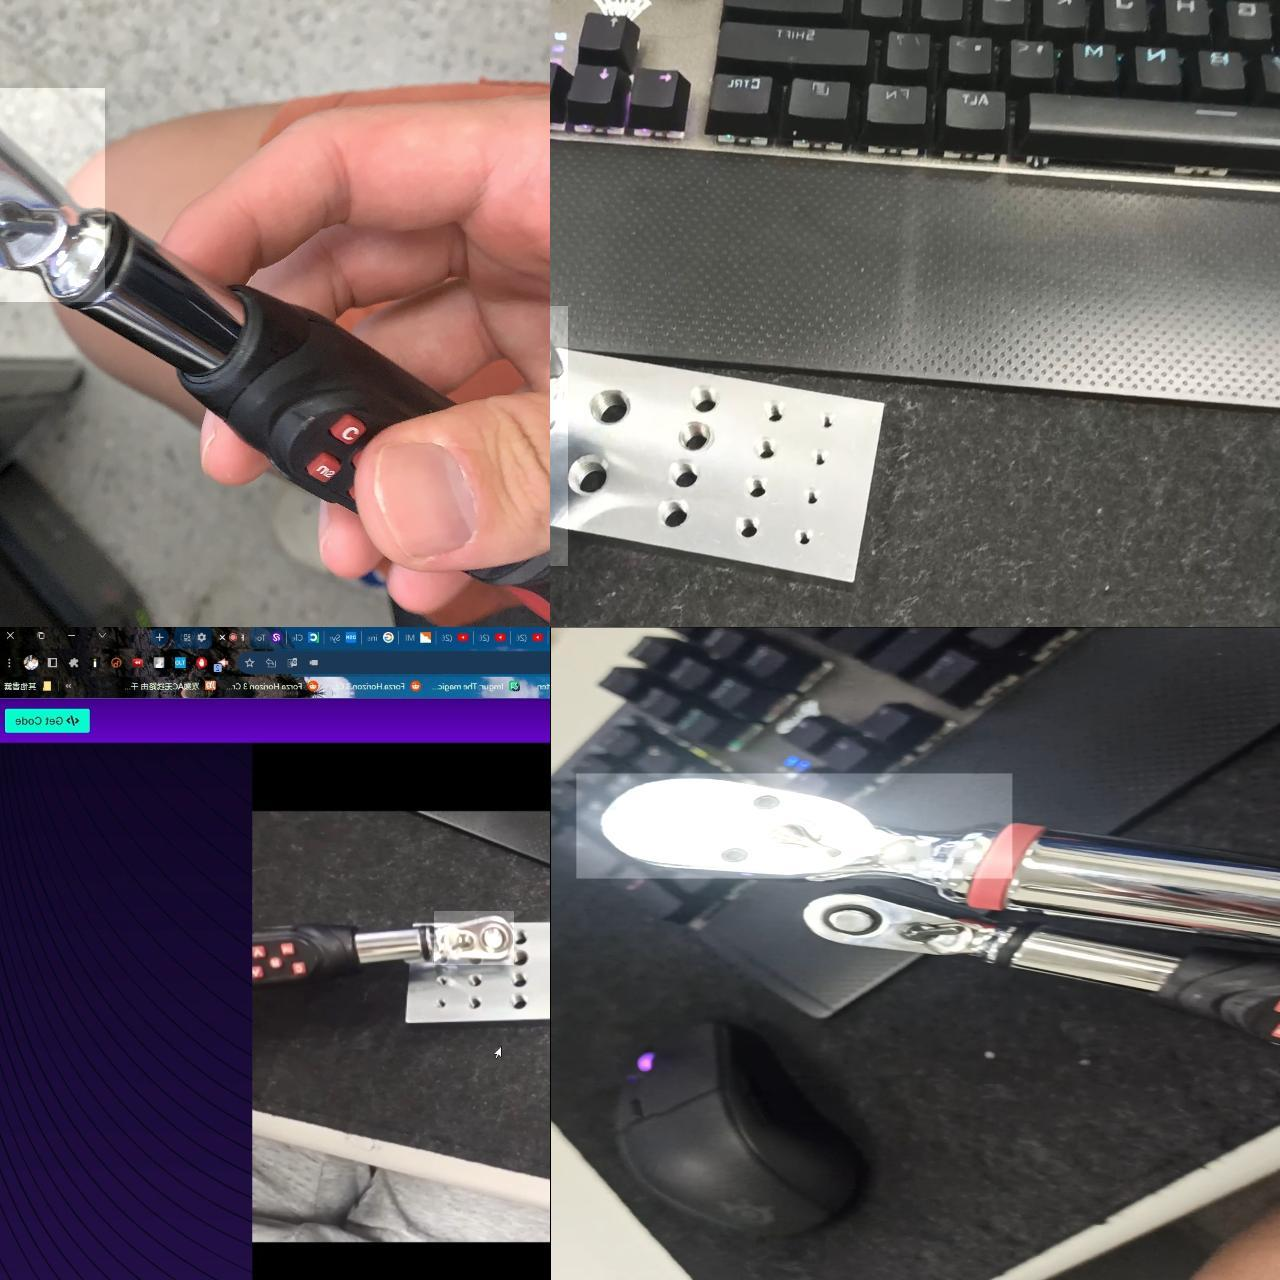Tool: (576, 772, 1012, 878), (0, 87, 104, 301), (787, 892, 1030, 965), (433, 910, 513, 964)
hole: (568, 450, 624, 503), (594, 381, 648, 433), (665, 492, 706, 531), (683, 418, 727, 455), (672, 456, 710, 491), (693, 381, 731, 415), (755, 431, 781, 470), (744, 472, 767, 504), (734, 516, 764, 538), (791, 526, 822, 547), (761, 400, 787, 423), (511, 990, 530, 1021), (430, 993, 456, 1013), (469, 990, 484, 1016), (822, 409, 839, 431), (465, 968, 484, 988), (513, 928, 537, 944), (511, 971, 527, 987), (511, 949, 527, 966), (806, 490, 821, 509), (813, 450, 828, 467), (435, 972, 448, 988)
